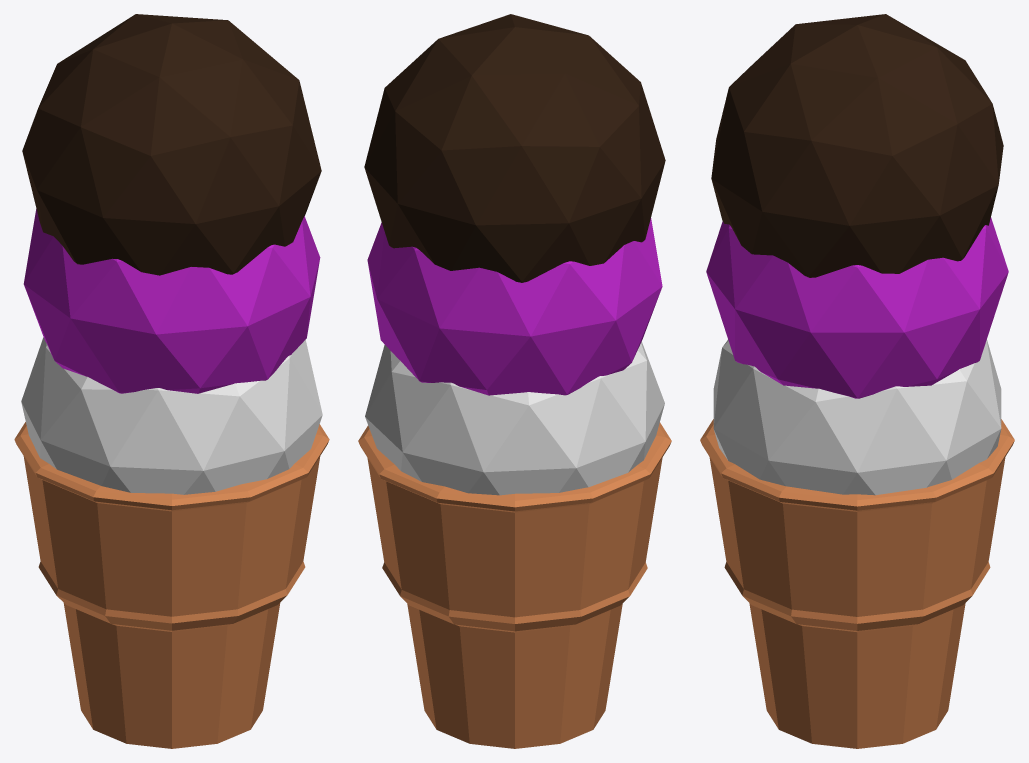
Rendered from Icecream Cone.fbx.
The picture shows the model from 3 angles, left to right: view 1: azimuth 30°, elevation 25°; view 2: azimuth 150°, elevation 25°; view 3: azimuth 270°, elevation 25°; orthographic projection.
Parts seen in each view (by area): view 1: Chocolate, Icecream Cone, Strawberry, Vanilla; view 2: Chocolate, Icecream Cone, Strawberry, Vanilla; view 3: Chocolate, Icecream Cone, Strawberry, Vanilla.
Part boxes in pixels (box(x1,y1,x2,y2)): Chocolate: box(22, 14, 321, 275); Icecream Cone: box(14, 422, 329, 748); Strawberry: box(23, 209, 320, 393); Vanilla: box(21, 337, 322, 494); Chocolate: box(364, 14, 665, 282); Icecream Cone: box(358, 422, 671, 748); Strawberry: box(367, 218, 662, 395); Vanilla: box(365, 341, 664, 495); Chocolate: box(711, 14, 1003, 277); Icecream Cone: box(700, 419, 1014, 748); Strawberry: box(706, 217, 1008, 398); Vanilla: box(713, 339, 1001, 495).
Bounding box in the file's own units: 104 × 250 × 104.
